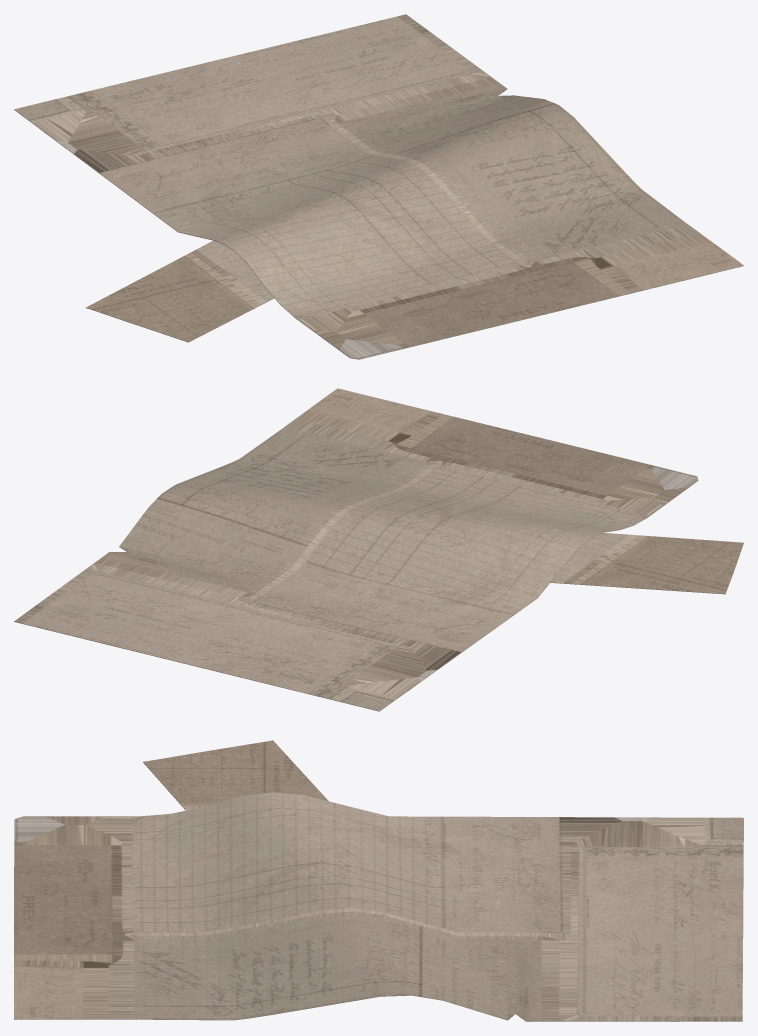
File: TornNote.glb
3 views of the same model, one above another, from view 1: azimuth 30°, elevation 25°; view 2: azimuth 150°, elevation 25°; view 3: azimuth 270°, elevation 25° (orthographic). The views are drawn at different scales.
Parts seen in each view (by area): view 1: 19th-Century Paper Clutter Documents.001; view 2: 19th-Century Paper Clutter Documents.001; view 3: 19th-Century Paper Clutter Documents.001.
Boxes of the visible parts, bbox=[...] form: 19th-Century Paper Clutter Documents.001: bbox=[14, 14, 743, 359]; 19th-Century Paper Clutter Documents.001: bbox=[14, 388, 743, 711]; 19th-Century Paper Clutter Documents.001: bbox=[14, 740, 743, 1021].
Size of the model in its own units: 0.2661 by 0.0112 by 0.2919.
Materials: 1 (1 with a texture image).
